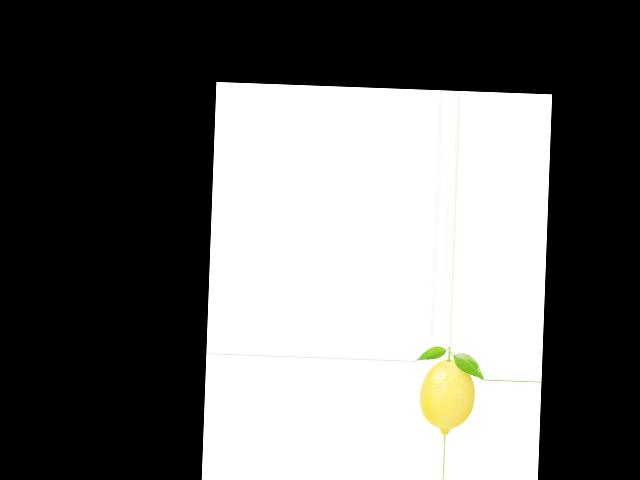lemon: (416, 351, 479, 434)
